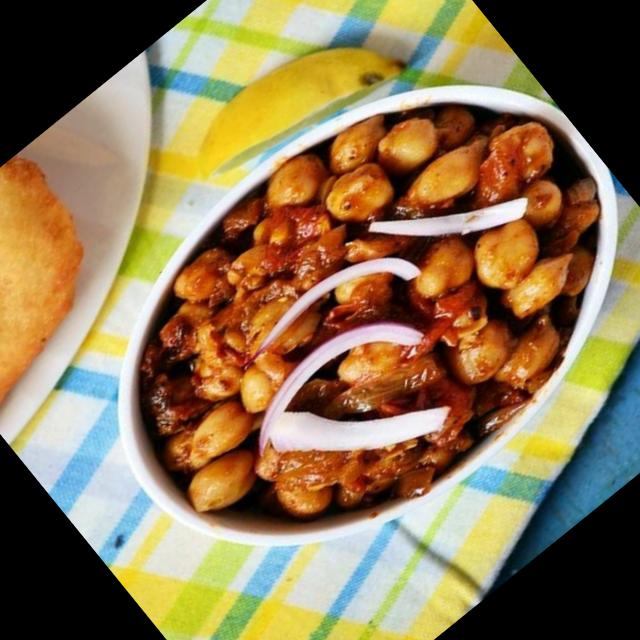Bhatura: (0, 148, 142, 419)
Chole: (59, 14, 640, 609)
